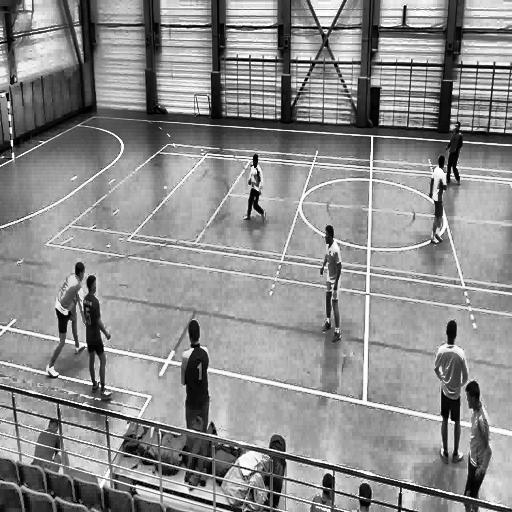player: (431, 315, 468, 471), (44, 259, 85, 379), (460, 379, 492, 512), (83, 274, 114, 404), (180, 318, 212, 430), (320, 227, 344, 346), (244, 152, 270, 230), (429, 156, 447, 246), (445, 122, 463, 186)
